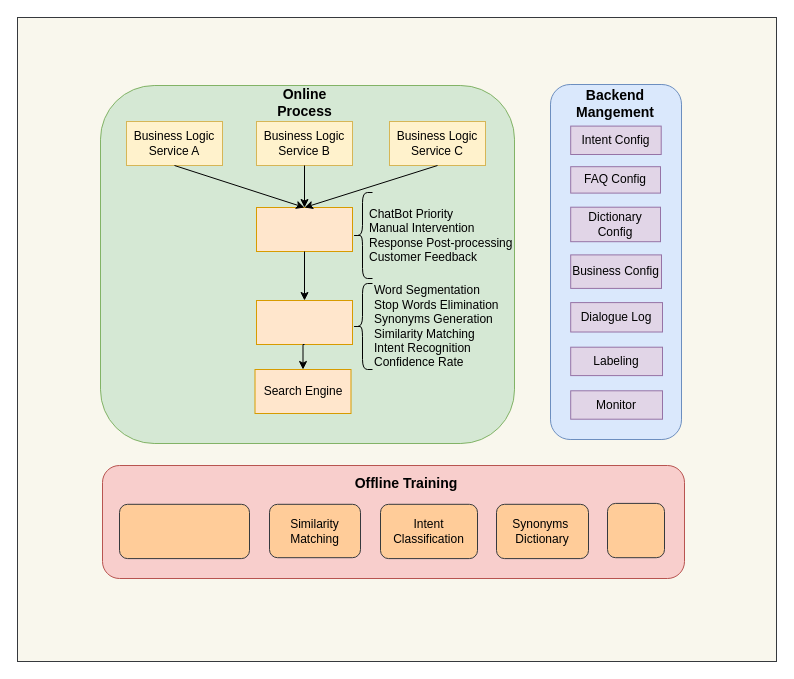
The diagram is 794 pixels wide and 679 high, and some of its shapes have lost their labels. Each missing label, with the centre of its shape:
"Dialogue Logic Layer" belongs at (x=304, y=229).
"NLU Backend" belongs at (x=304, y=322).
"Stop Words" belongs at (x=635, y=530).
"Word Segmentation and Dictionary Update" belongs at (x=184, y=531).
